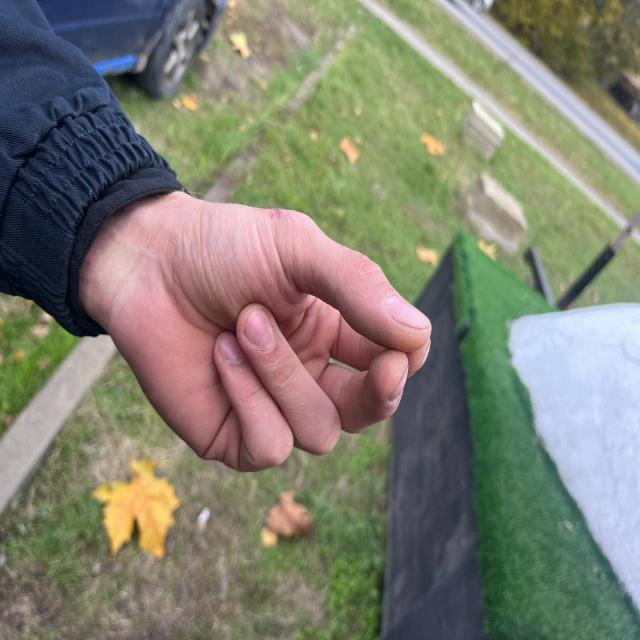ch: (100, 167, 450, 515)
